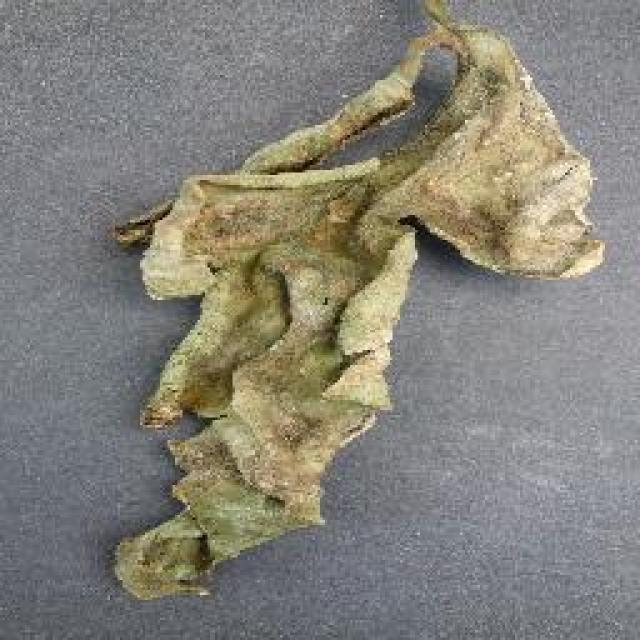Tomato late blight leaf: (118, 15, 607, 602)
